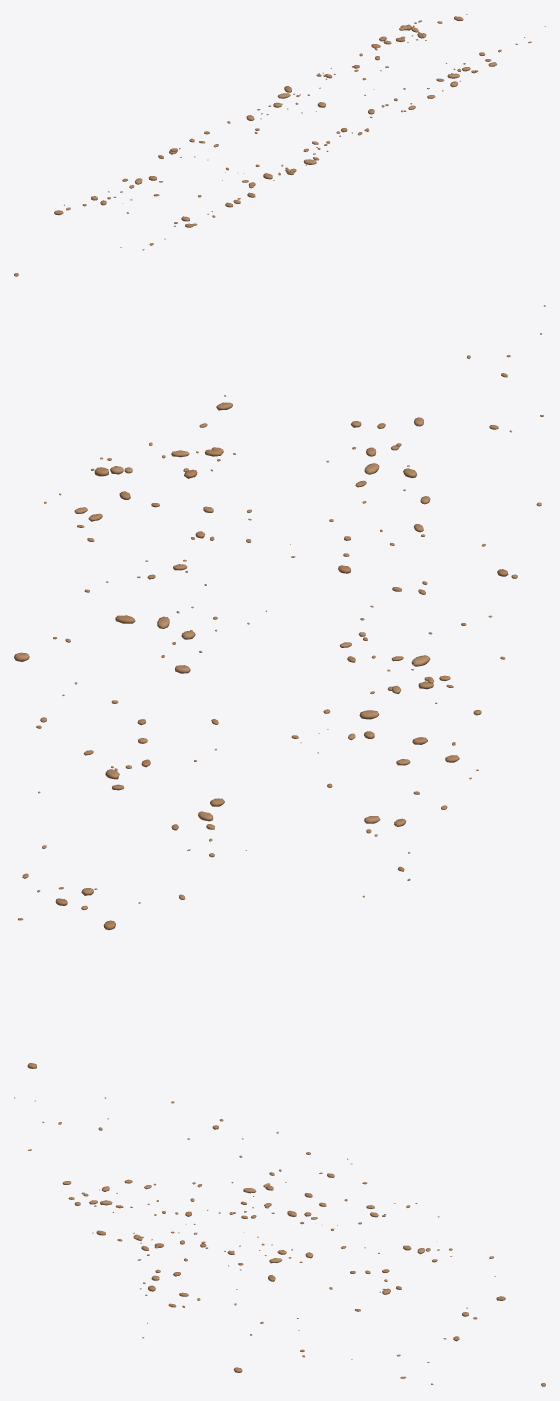
Rendered from terrain-100.glb.
3 renders of one model, top to bottom at view 1: azimuth 90°, elevation 25°; view 2: azimuth 150°, elevation 25°; view 3: azimuth 270°, elevation 25°, orthographic. The views are drawn at different scales.
Parts seen in each view (by area): view 1: terrain-100; view 2: terrain-100; view 3: terrain-100.
Part boxes in pixels (x1,y1,x2,y2): terrain-100: (14,14,545,276); terrain-100: (14,305,545,1068); terrain-100: (14,1097,545,1386).
Bounding box in the file's own units: 56.4 × 40.19 × 72.11.
